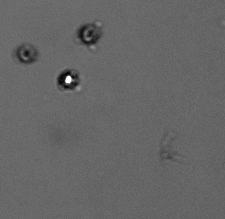Dead Cell: (78, 24, 101, 44), (16, 44, 38, 64)
Living Cell: (57, 69, 79, 88)
